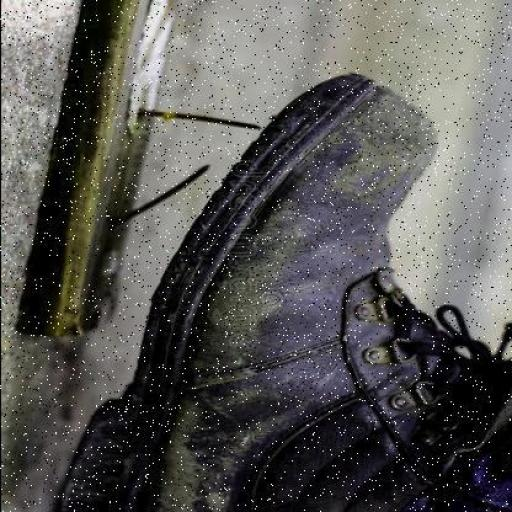safety_shoe: (60, 67, 450, 511)
